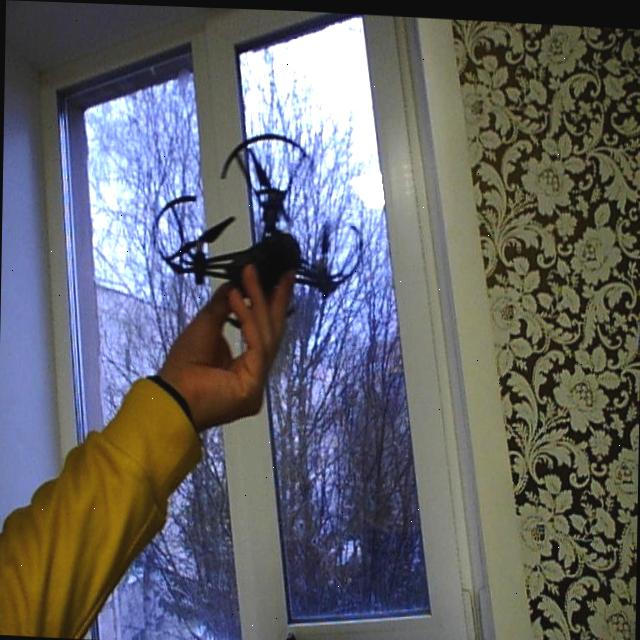drone: (150, 121, 372, 368)
